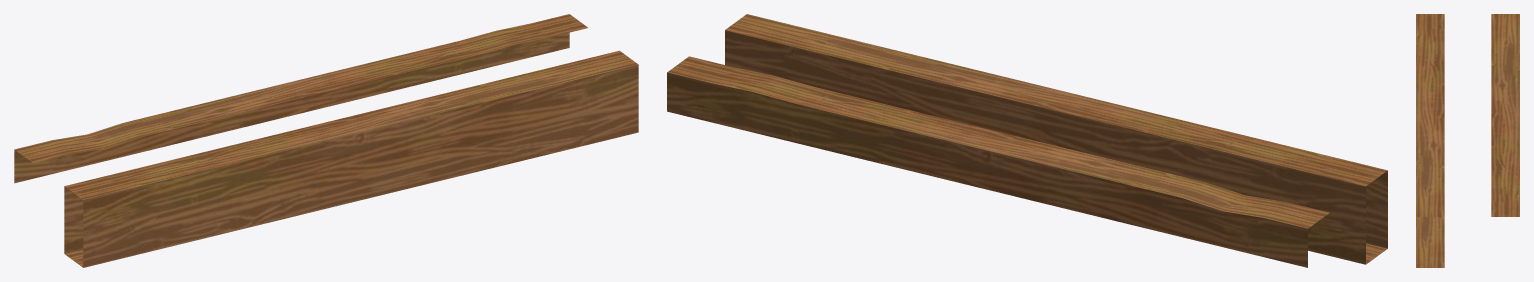
File: wall-qm-wallbottomcover.glb
The picture shows the model from 3 angles, left to right: view 1: azimuth 30°, elevation 25°; view 2: azimuth 150°, elevation 25°; view 3: azimuth 270°, elevation 25°; orthographic projection. The views are drawn at different scales.
Visible parts, largest first — view 1: Cube_192; view 2: Cube_192; view 3: Cube_192.
Boxes of the visible parts, box(x1,y1,x2,y2) form: Cube_192: box(14, 14, 638, 267); Cube_192: box(667, 14, 1387, 267); Cube_192: box(1416, 14, 1519, 267).
Bounding box in the file's own units: 2 × 0.2375 × 0.4316.
Materials: 1 (1 with a texture image).
